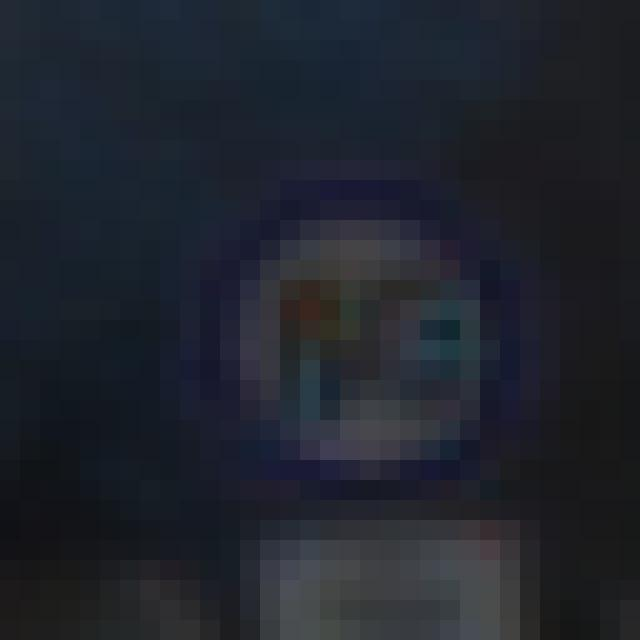SPEED-LIMIT-80: (171, 179, 564, 516)
